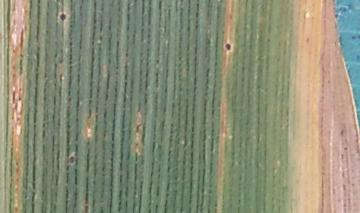tarspot: (66, 152, 77, 167), (55, 9, 67, 22), (224, 40, 233, 54)
